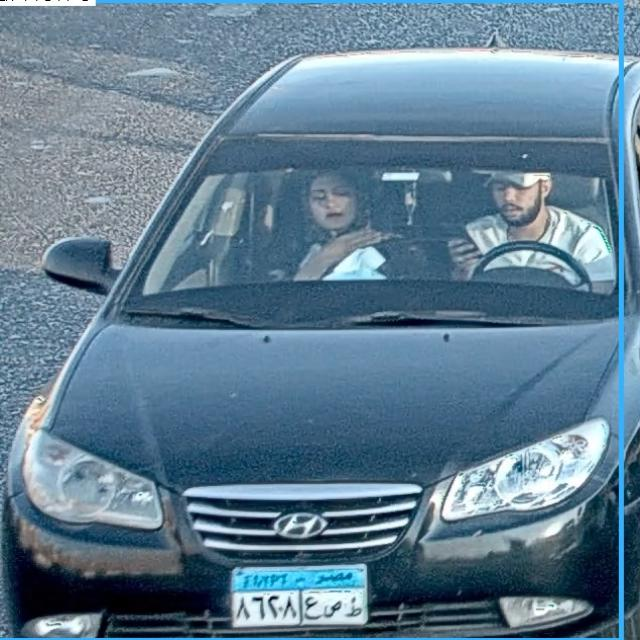windshield: (133, 137, 616, 311)
